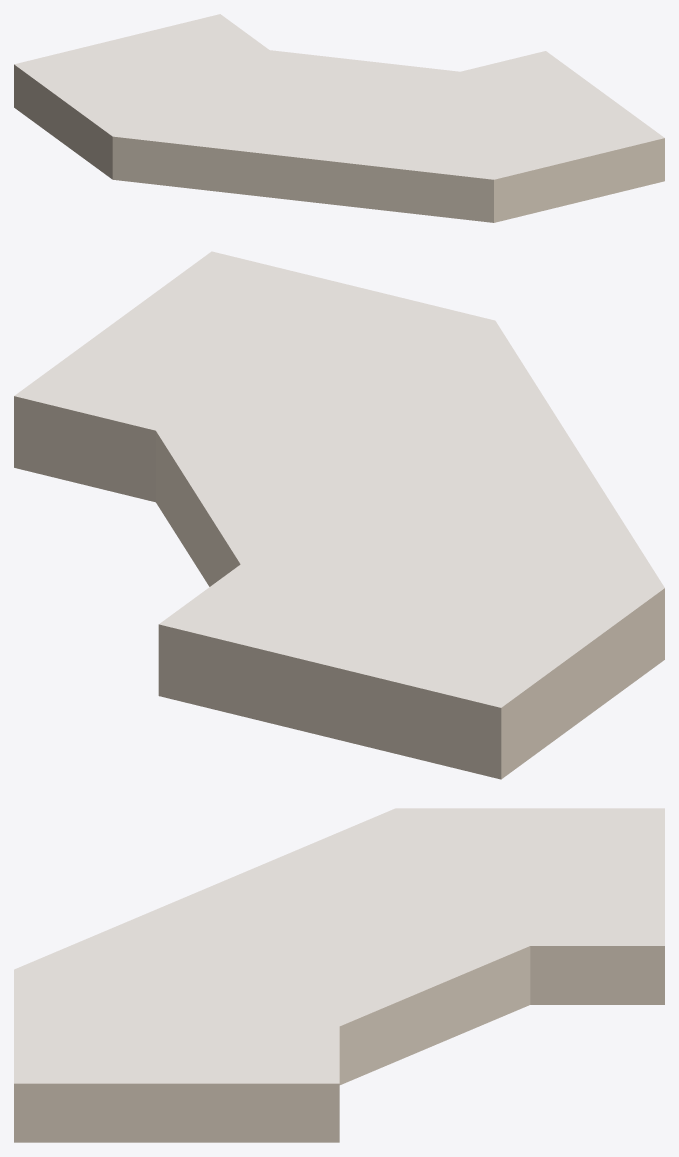
File: Floor_Curved_Large.glb
The picture shows the model from 3 angles, top to bottom: view 1: azimuth 30°, elevation 25°; view 2: azimuth 150°, elevation 25°; view 3: azimuth 270°, elevation 25°; orthographic projection. The views are drawn at different scales.
Visible parts, largest first — view 1: Floor_Curved_Large; view 2: Floor_Curved_Large; view 3: Floor_Curved_Large.
Part boxes in pixels (x1,y1,x2,y2): Floor_Curved_Large: [14, 14, 664, 222]; Floor_Curved_Large: [14, 251, 664, 779]; Floor_Curved_Large: [14, 808, 664, 1142].
Bounding box in the file's own units: 0.9 × 0.09 × 0.9.
